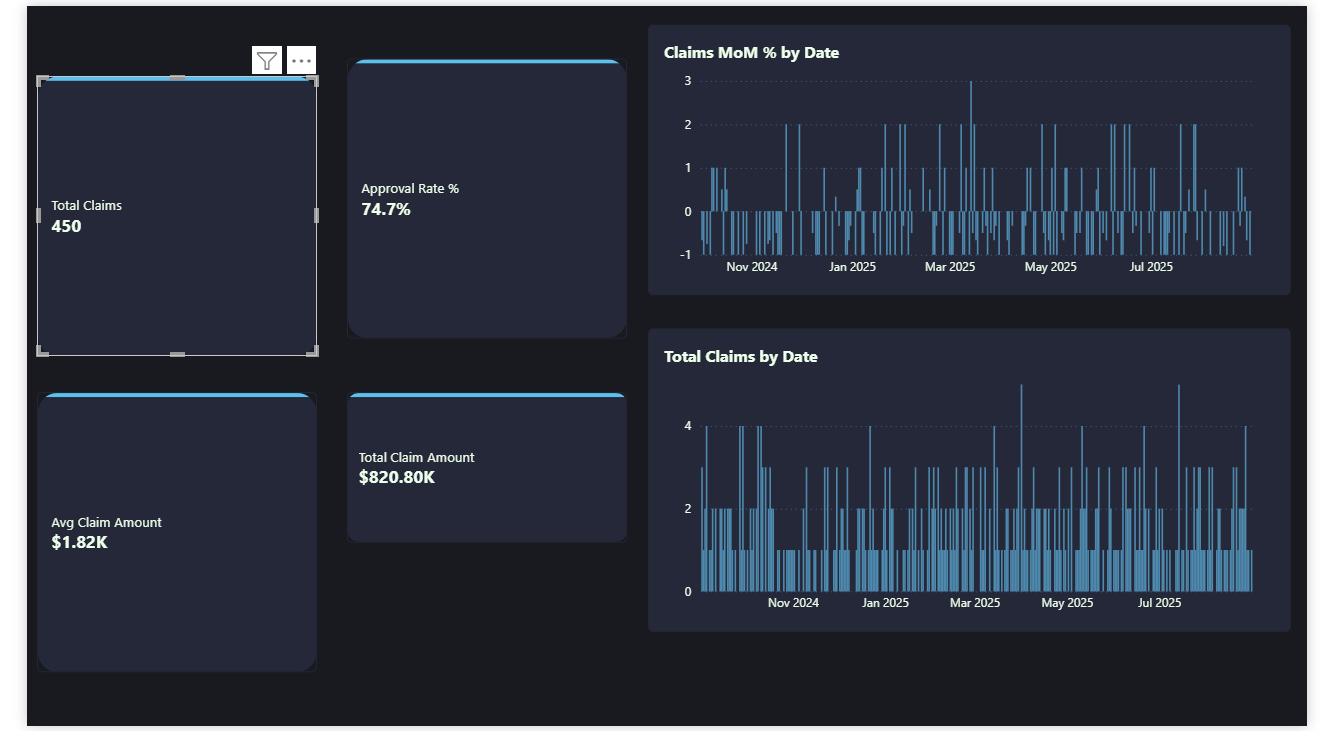

This screenshot's page, from the dashboard's own definition file:
{"tool":"powerbi","page":{"name":"Claims Overview","canvas":[1280,720],"ordinal":0},"visuals":[{"type":"cardVisual","fields":{"Data":["Claims.Total Claims"]},"box":[10,0,280,280],"z":0},{"type":"cardVisual","fields":{"Data":["Claims.Avg Claim Amount"]},"box":[10,290,280,280],"z":1000},{"type":"cardVisual","fields":{"Data":["Claims.Total Claim Amount"]},"box":[320.4,386.8,280,150.7],"z":2000},{"type":"cardVisual","fields":{"Data":["Claims.Approval Rate %"]},"box":[300,0,280,280],"z":3000},{"type":"columnChart","fields":{"Y":["Claims.Total Claims"],"Category":["Date.Date"]},"box":[621.6,322.5,642.2,303.3],"z":4000},{"type":"columnChart","fields":{"Y":["Claims.Claims MoM %"],"Category":["Date.Date"]},"box":[621.6,19.2,642.2,270.3],"z":5000}]}

Visuals, with their boxes in screenshot pixels (x1, y1, x2, y2), scaled from the page's 1280x720 canvas onto the 1325x731 screenshot:
cardVisual - Claims.Total Claims: left=10, top=0, right=300, bottom=284
cardVisual - Claims.Avg Claim Amount: left=10, top=294, right=300, bottom=579
cardVisual - Claims.Total Claim Amount: left=332, top=393, right=622, bottom=546
cardVisual - Claims.Approval Rate %: left=311, top=0, right=600, bottom=284
columnChart - Claims.Total Claims x Date.Date: left=643, top=327, right=1308, bottom=635
columnChart - Claims.Claims MoM % x Date.Date: left=643, top=19, right=1308, bottom=294
